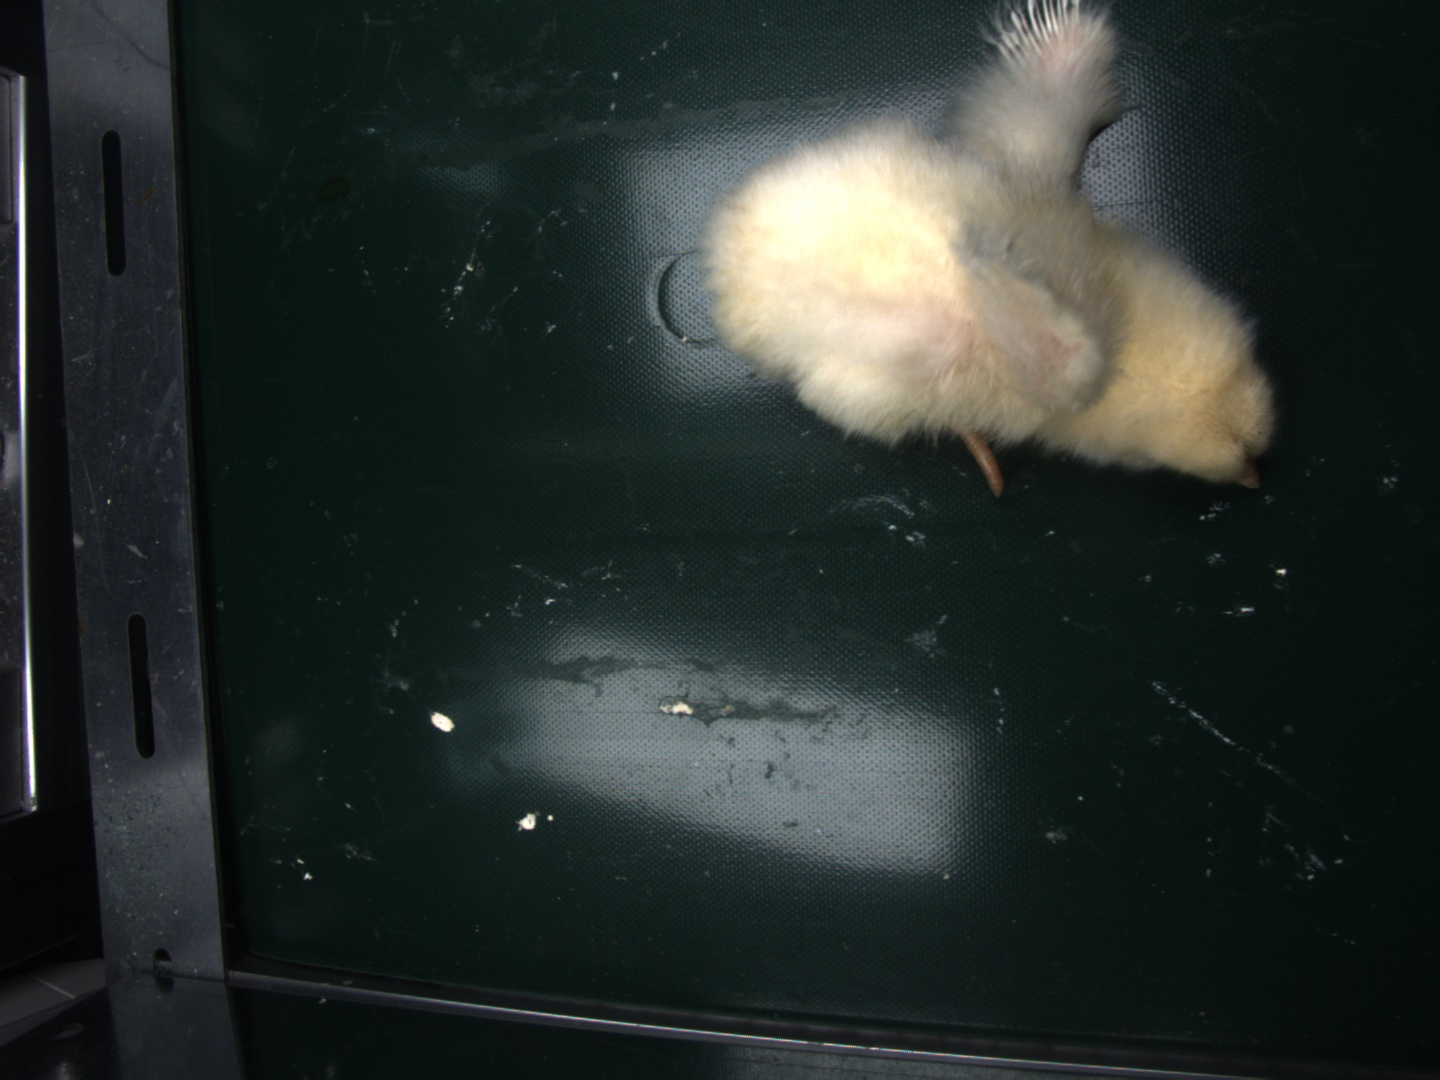male: (1006, 2, 1079, 64)
